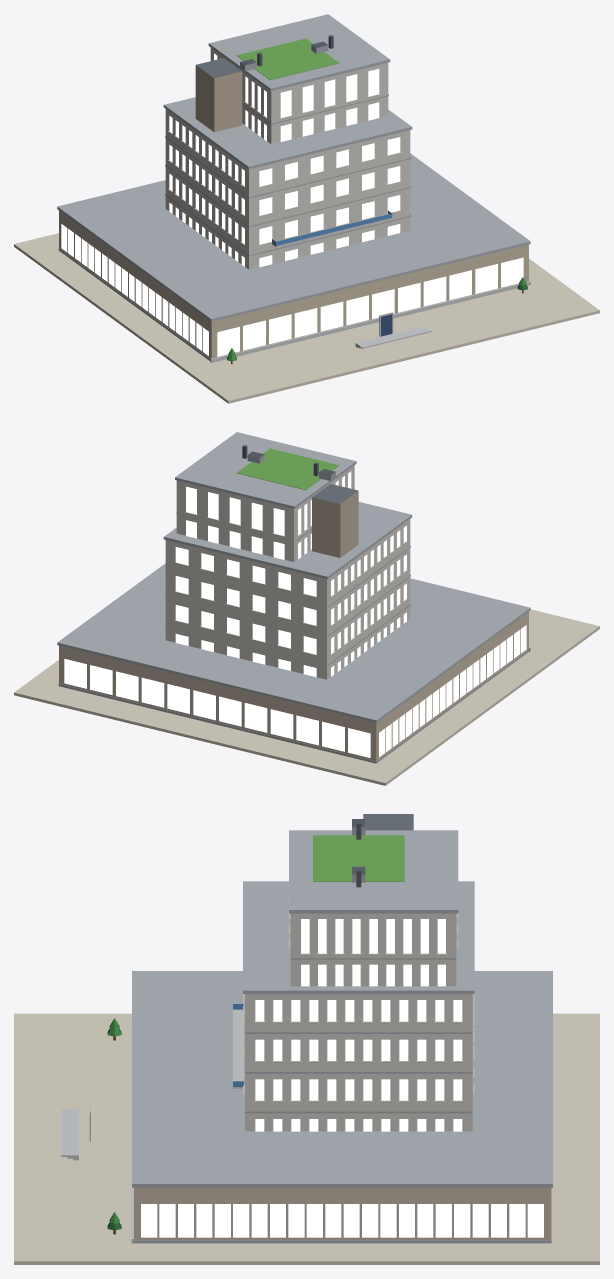
3 views of the same model, one above another, from view 1: azimuth 30°, elevation 25°; view 2: azimuth 150°, elevation 25°; view 3: azimuth 270°, elevation 25° (orthographic). The views are drawn at different scales.
Visible parts, largest first — view 1: b10_x4; view 2: b10_x4; view 3: b10_x4.
Part boxes in pixels (x1,y1,x2,y2): b10_x4: (14, 14, 599, 403); b10_x4: (14, 432, 599, 785); b10_x4: (14, 814, 599, 1264).
Bounding box in the file's own units: 3.96 × 2.23 × 3.96.
